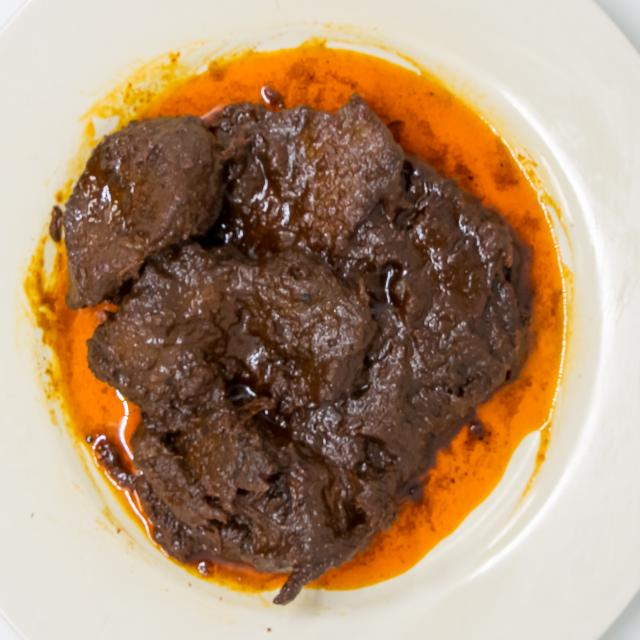Rendang: (47, 87, 545, 612)
